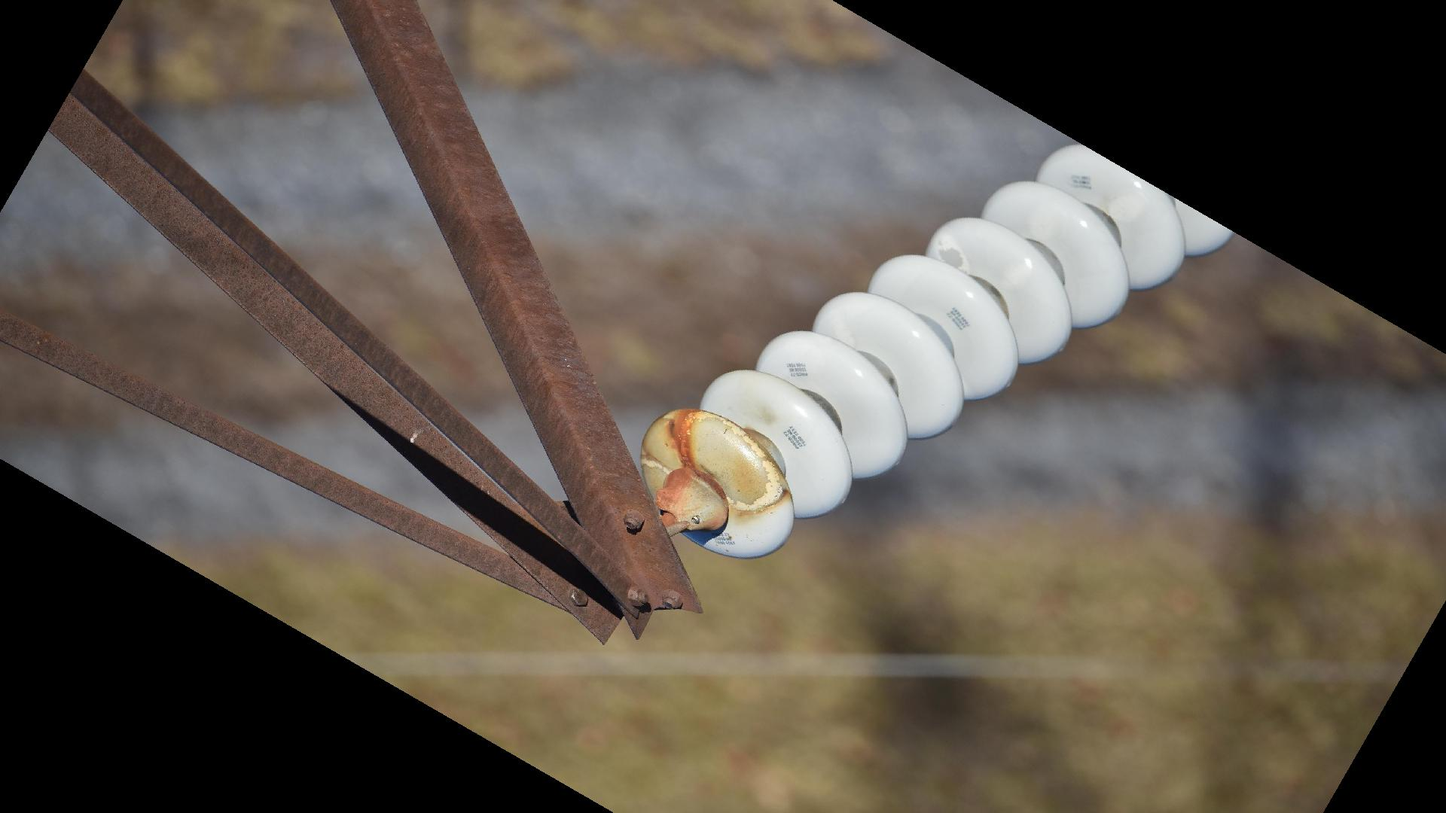insulator: (633, 137, 1237, 568)
insulator_flashover: (639, 404, 776, 508), (932, 230, 973, 275)
